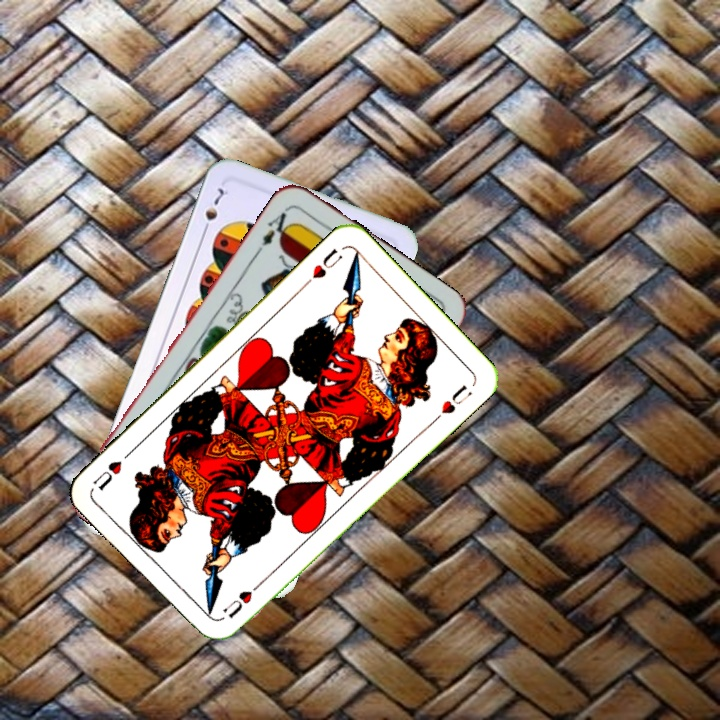EA: (252, 204, 296, 256)
HU: (300, 244, 345, 289), (218, 586, 255, 622)
S7: (198, 183, 231, 238)
